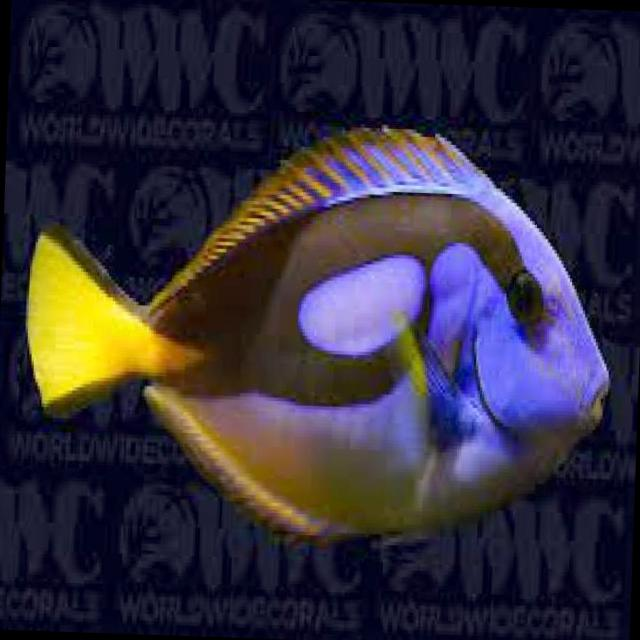BlueTang: (11, 91, 627, 572)
